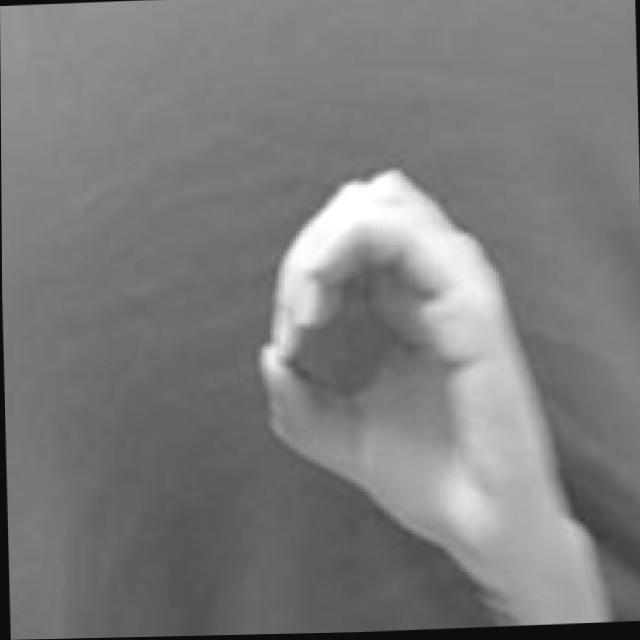O: (244, 150, 594, 575)
